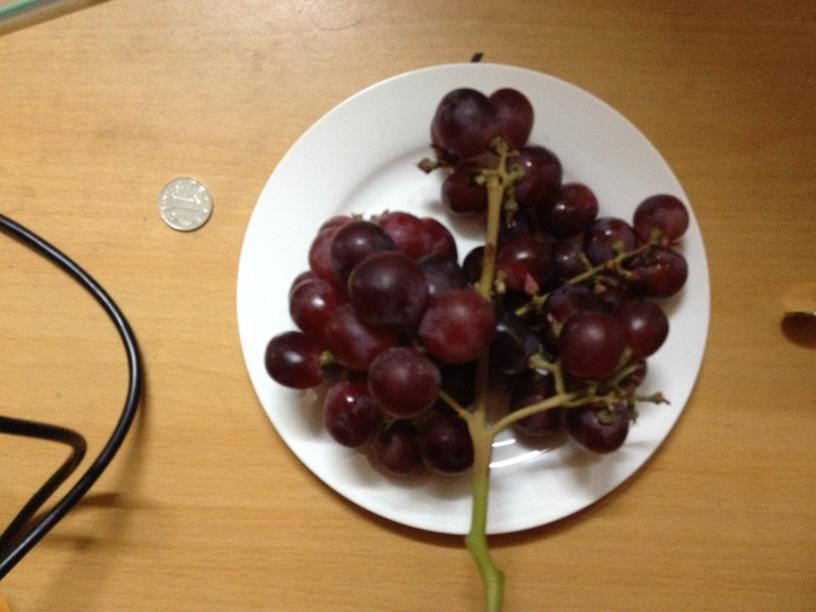coin: (155, 174, 212, 235)
grape: (261, 89, 686, 475)
